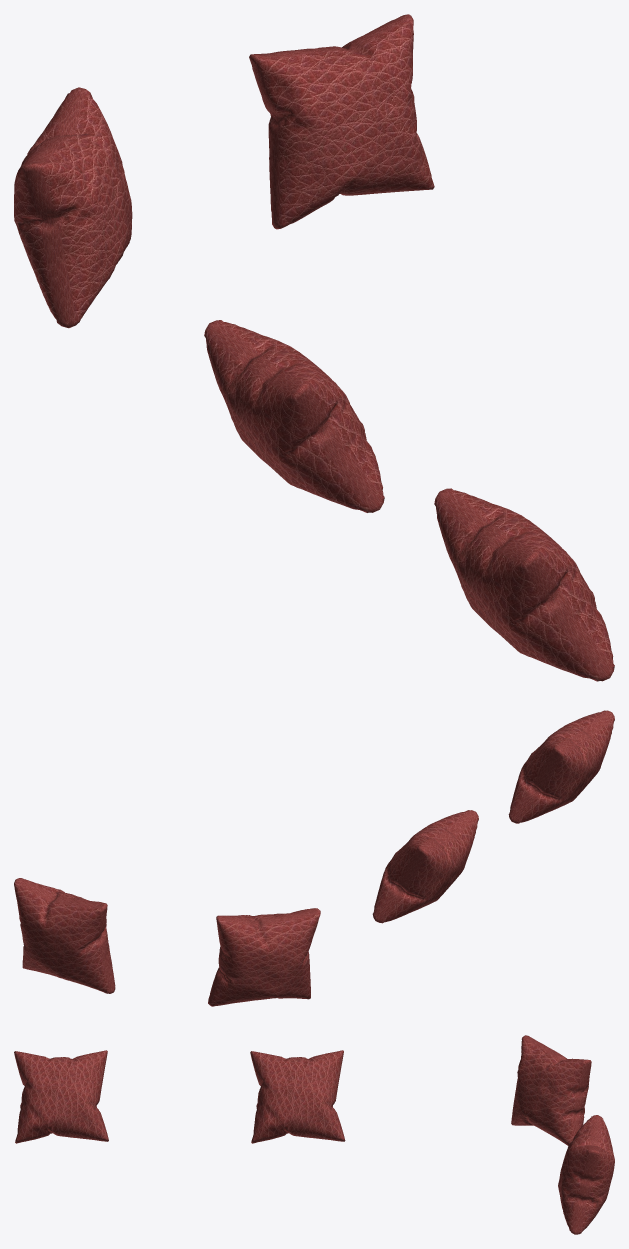
File: cojines.gltf
3 views of the same model, one above another, from view 1: azimuth 30°, elevation 25°; view 2: azimuth 150°, elevation 25°; view 3: azimuth 270°, elevation 25° (orthographic). The views are drawn at different scales.
Parts seen in each view (by area): view 1: Cube.008, Cube.007, Cube.006, Cube.005; view 2: Cube.007, Cube.008, Cube.005, Cube.006; view 3: Cube.006, Cube.005, Cube.007, Cube.008.
Part boxes in pixels (left/top/right/bottom): Cube.008: left=249, top=14, right=434, bottom=229; Cube.007: left=14, top=87, right=132, bottom=328; Cube.006: left=204, top=320, right=384, bottom=512; Cube.005: left=434, top=488, right=614, bottom=681; Cube.007: left=208, top=908, right=320, bottom=1006; Cube.008: left=14, top=878, right=115, bottom=993; Cube.005: left=508, top=710, right=614, bottom=823; Cube.006: left=372, top=810, right=478, bottom=923; Cube.006: left=250, top=1050, right=345, bottom=1143; Cube.005: left=14, top=1050, right=108, bottom=1143; Cube.007: left=511, top=1035, right=591, bottom=1145; Cube.008: left=558, top=1115, right=614, bottom=1234.
Size of the model in its own units: 3.14 by 1.17 by 6.87.
1 material, 1 textured.
